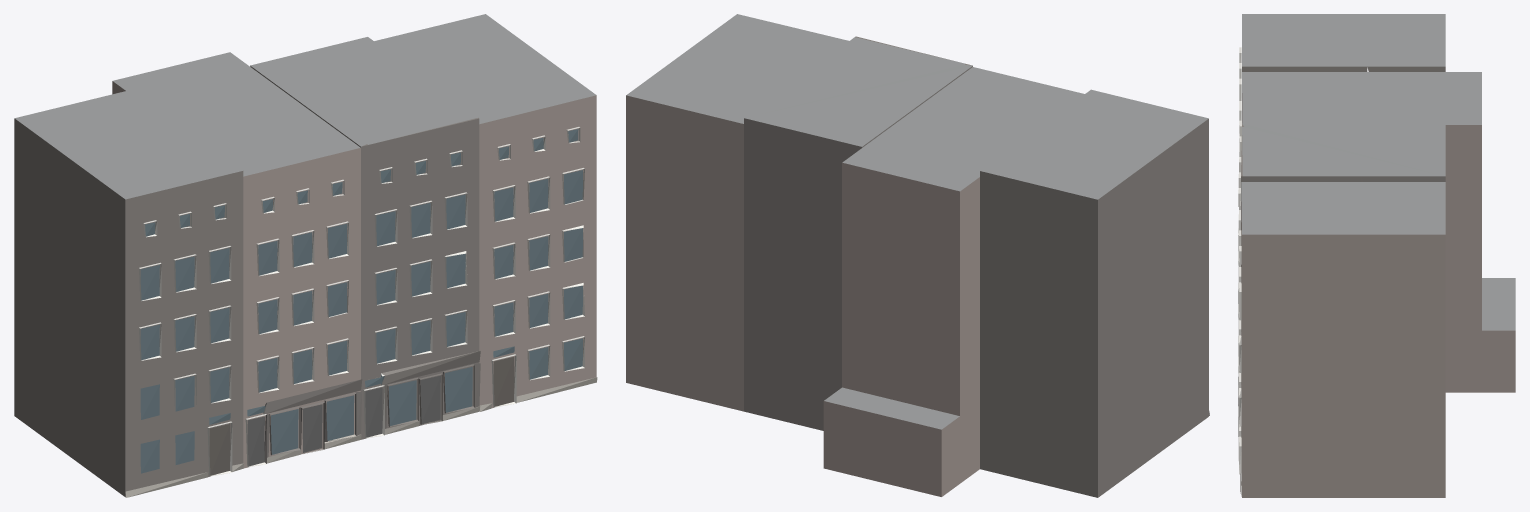
The model's file is chunk-face-molukken-7-29-r1.lod2.glb.
3 renders of one model, left to right at view 1: azimuth 30°, elevation 25°; view 2: azimuth 150°, elevation 25°; view 3: azimuth 270°, elevation 25°, orthographic. The views are drawn at different scales.
Visible parts, largest first — view 1: lod2; view 2: lod2; view 3: lod2.
Part boxes in pixels (<box>): lod2: <box>14,14,597,497</box>; lod2: <box>626,14,1209,497</box>; lod2: <box>1238,14,1515,497</box>.
Size of the model in its own units: 24.88 by 15.03 by 13.84.
